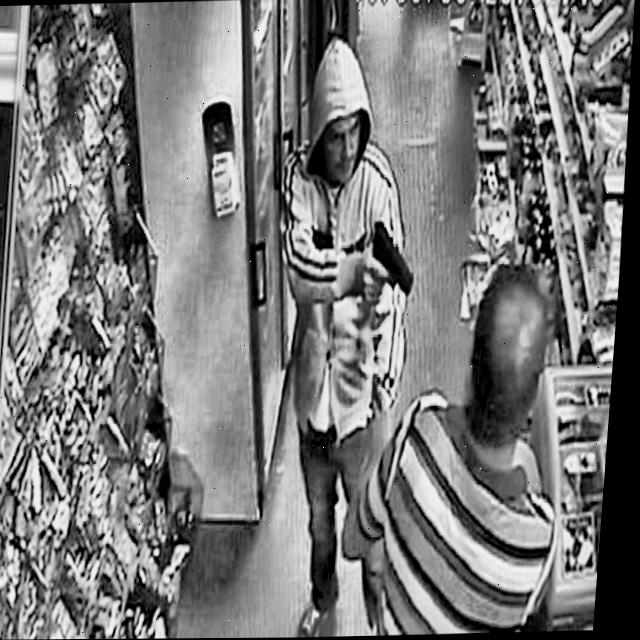pistol: (359, 198, 427, 328)
robbery: (249, 17, 600, 638)
